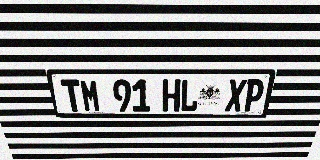1: (131, 79, 150, 112)
9: (112, 79, 132, 112)
H: (162, 79, 181, 112)
L: (180, 79, 199, 112)
M: (79, 79, 101, 112)
P: (242, 79, 266, 111)
T: (60, 79, 84, 112)
X: (224, 79, 247, 111)
